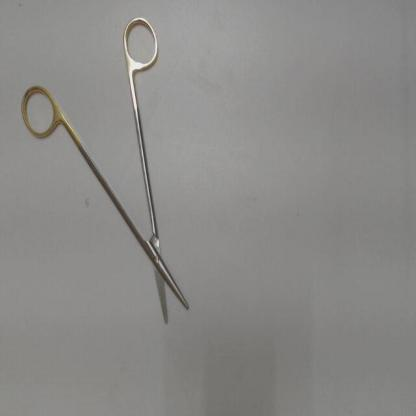7 Metzenbaum Scissors: (17, 10, 195, 326)
